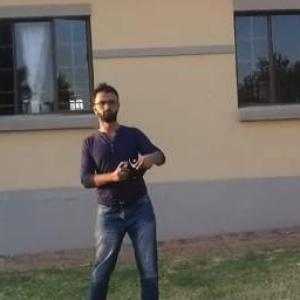follow: (72, 76, 171, 299)
